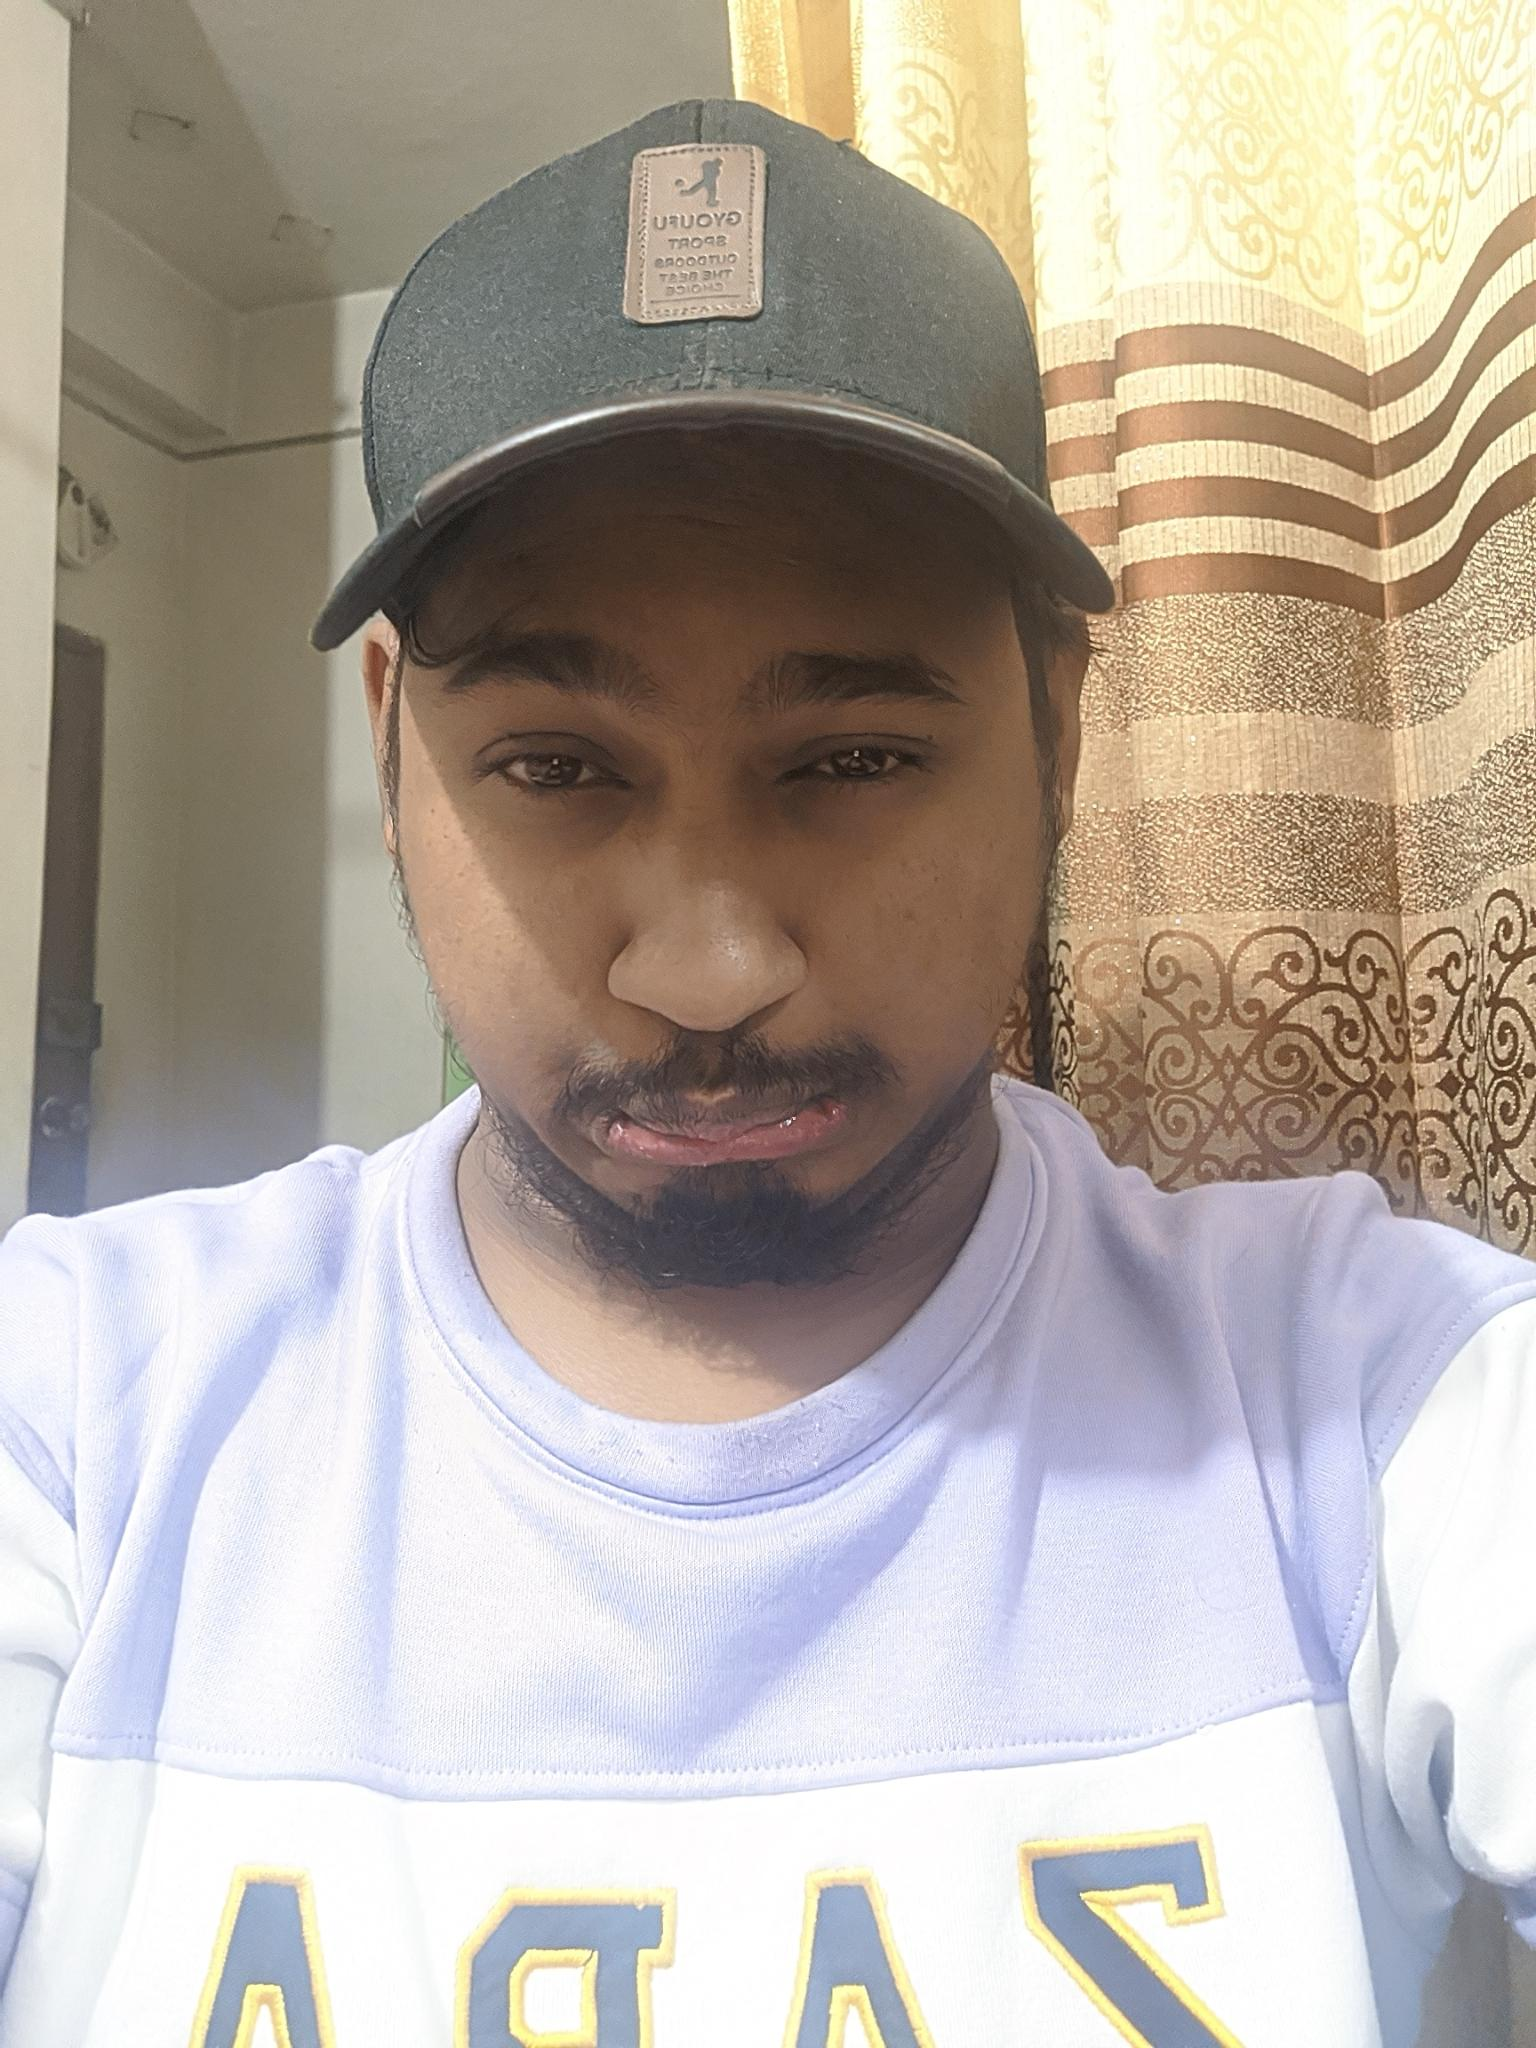Disgust: (400, 542, 1020, 1290)
